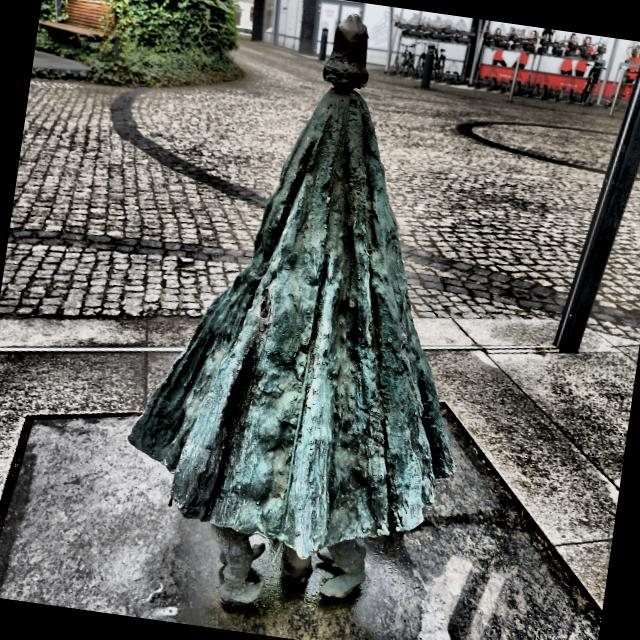Parasolniki: (129, 12, 452, 606)
